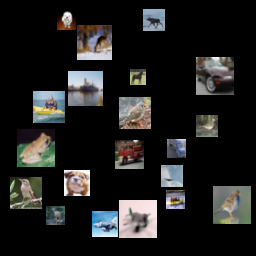airplane: (119, 82, 135, 98)
automobile: (61, 116, 93, 148)
bird: (55, 32, 90, 67), (145, 96, 171, 122)
cat: (44, 199, 79, 234), (72, 167, 98, 193)
deer: (188, 61, 204, 77)
dog: (69, 9, 88, 28)
frog: (190, 195, 225, 230), (9, 160, 41, 192), (18, 118, 47, 147), (191, 106, 217, 132), (123, 165, 145, 187), (31, 5, 53, 27), (83, 77, 105, 99), (150, 17, 172, 39)
ship: (199, 2, 237, 40), (96, 41, 131, 76)
